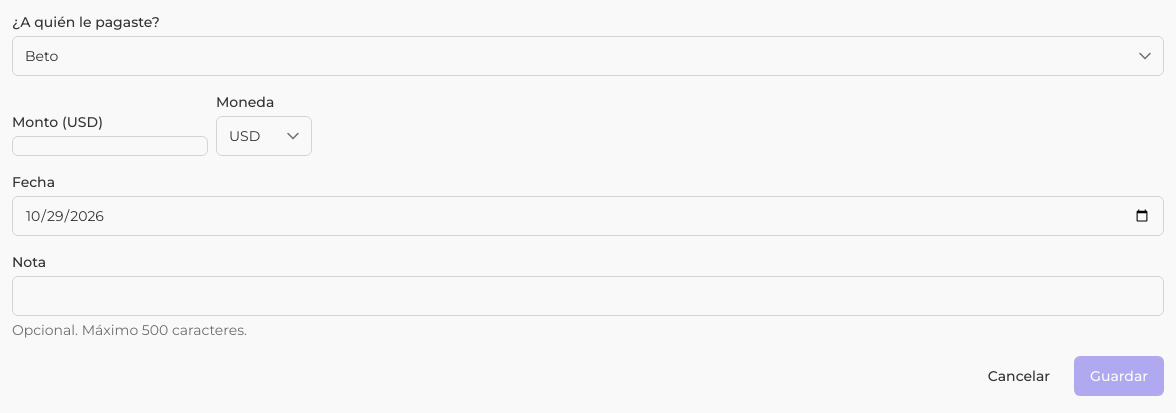
SettlementForm currency select (T104) › re-formats the amount on a currency switch rather than reinterpreting it x100
Type "40,50" into the field labelled "Monto (USD)" at [110, 146], box [12,136,208,156]
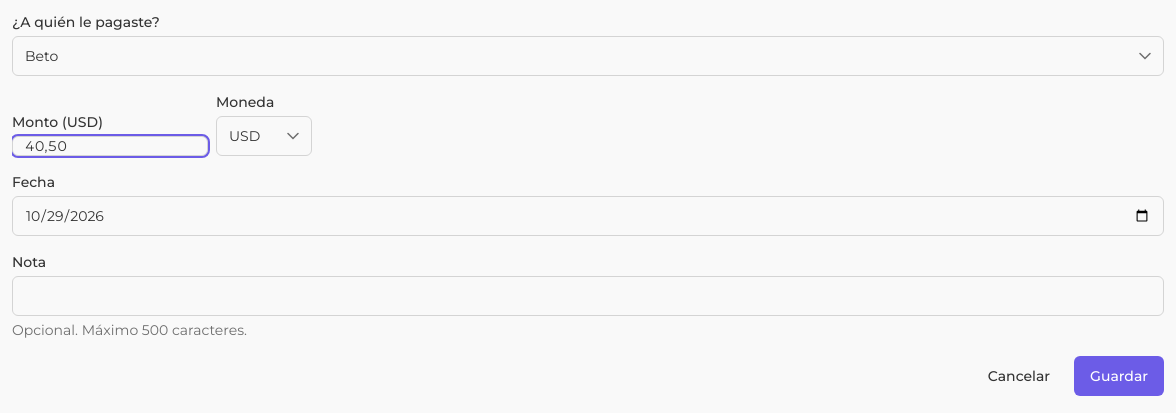
Click the dropdown named "Moneda" at [264, 136], box [216,116,312,156]
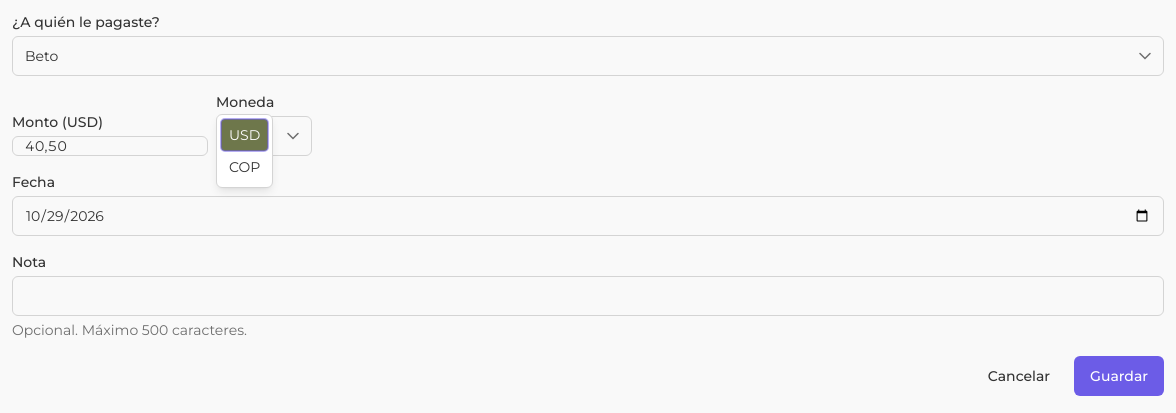
Click the option "COP" at [245, 167], box [229,158,260,176]
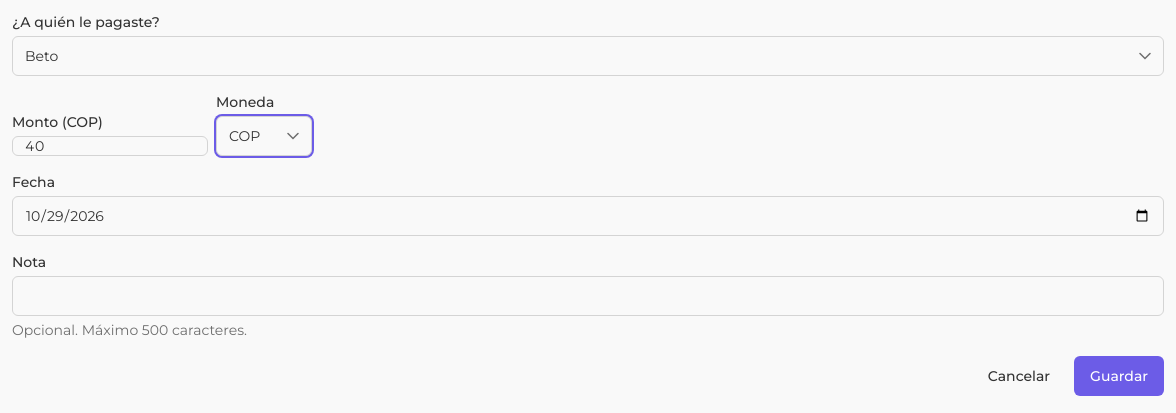
Check: the field labelled "Monto (COP)" holds "40", box [12,136,208,156]
